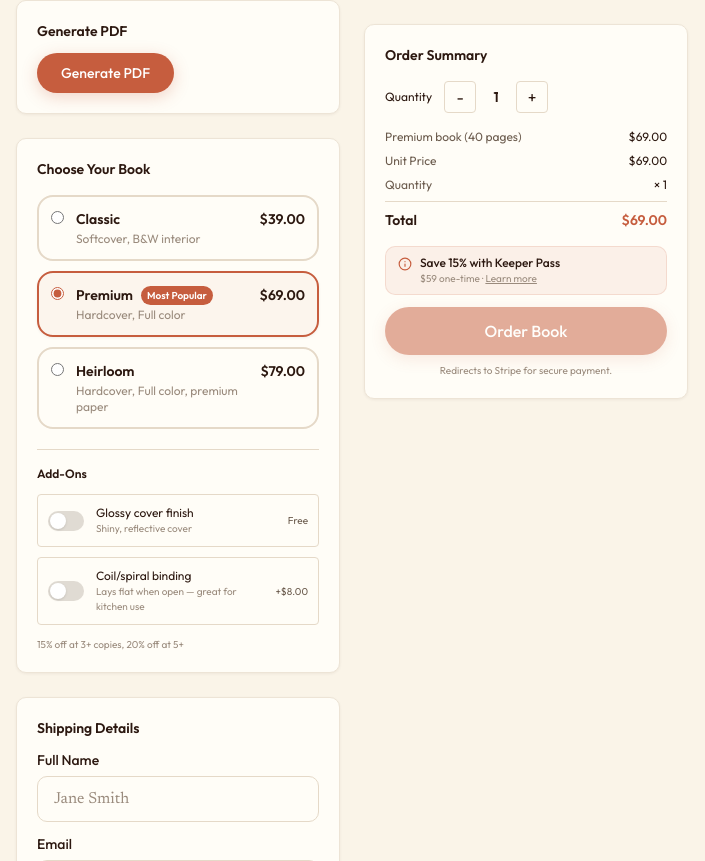
Test: OrderPanel › shows 20% discount label at 5+ copies
The image size is (705, 861).
Click the button "+": (532, 97) [516,81,548,113]
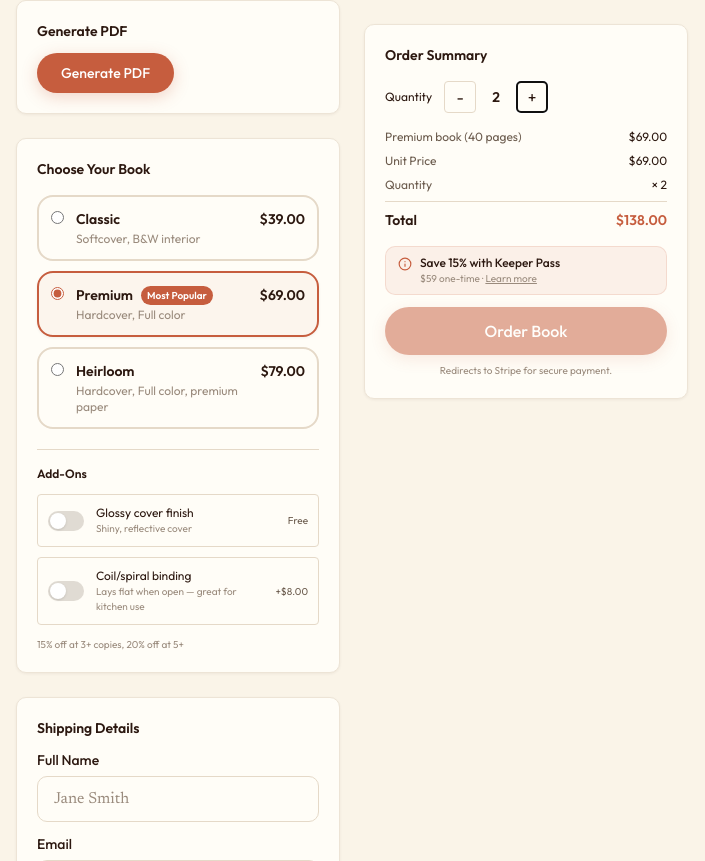
Click the button "+": (532, 97) [516,81,548,113]
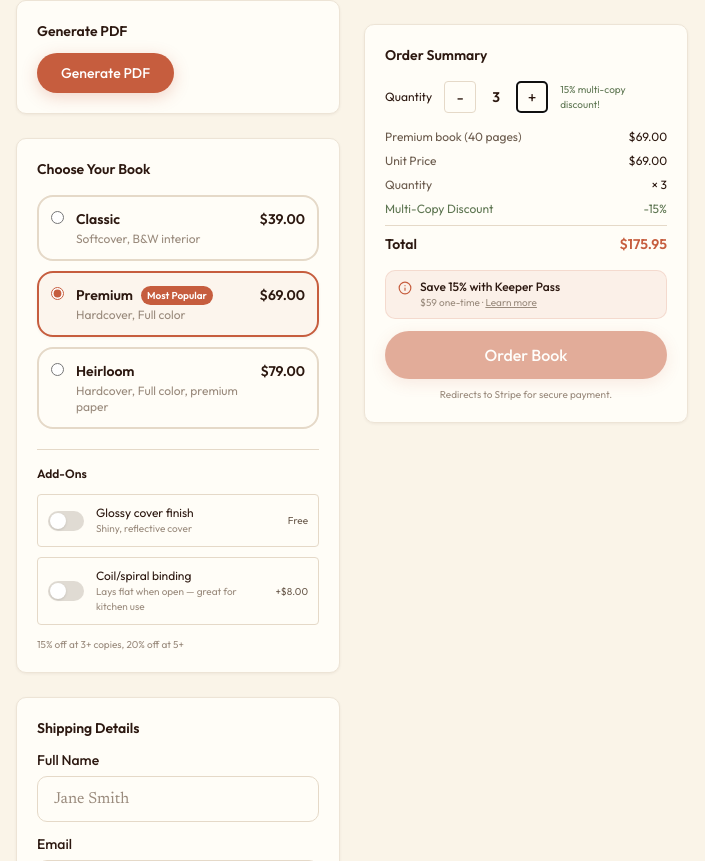
Click the button "+": (532, 97) [516,81,548,113]
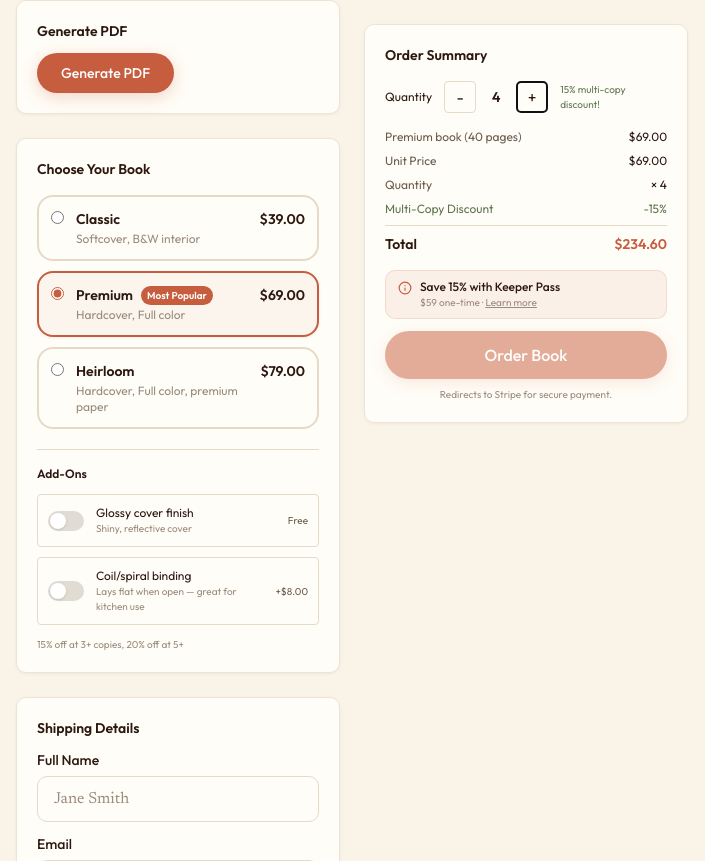
Click the button "+": (532, 97) [516,81,548,113]
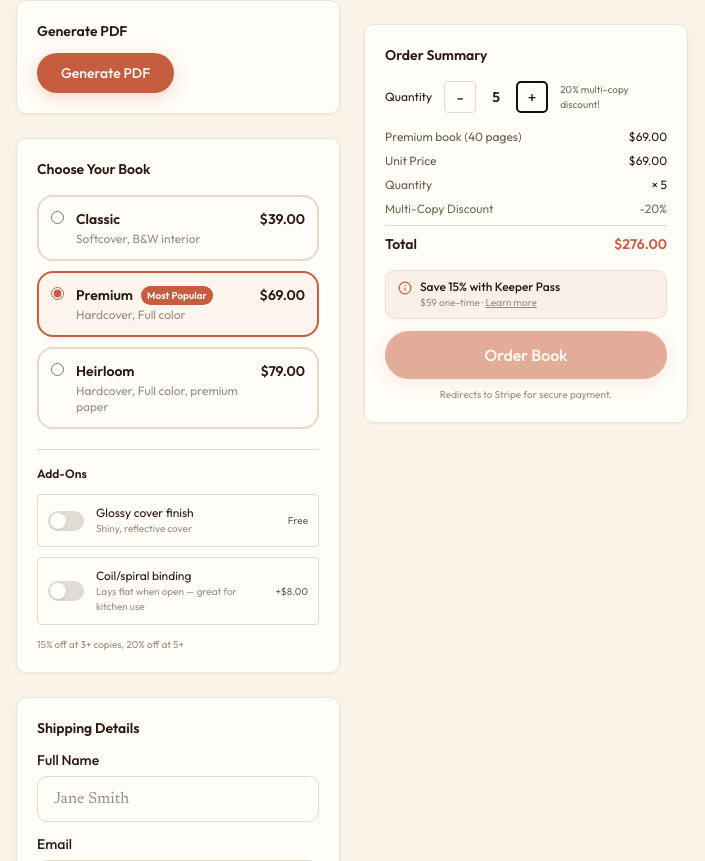
Expected: the text "20% multi-copy discount!" is shown, [560,83,629,111]
